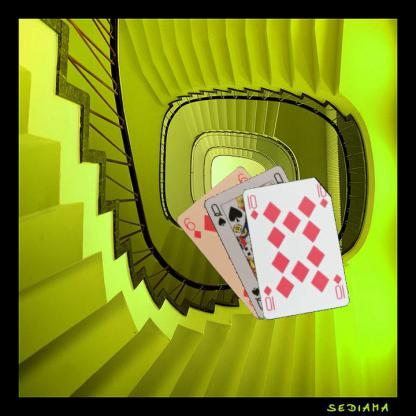10d: (244, 192, 259, 221), (330, 272, 344, 300)
6d: (181, 215, 202, 240)
Qs: (208, 200, 227, 228)
